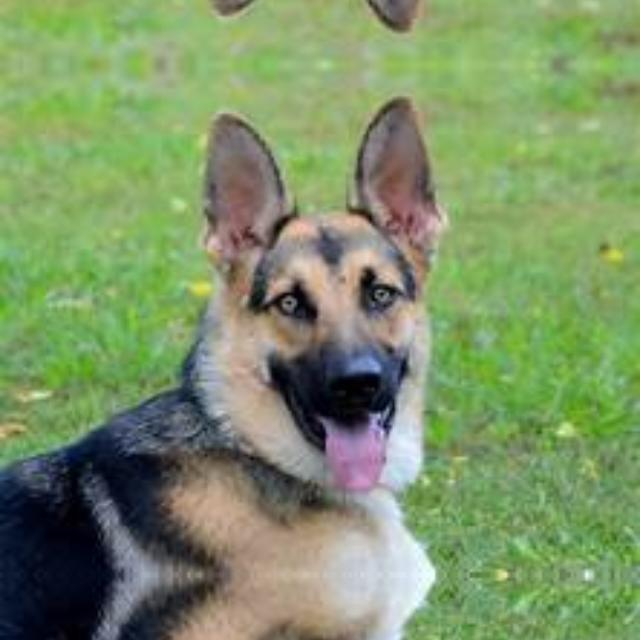dog: (77, 90, 583, 566), (77, 582, 583, 640), (77, 0, 583, 37)
